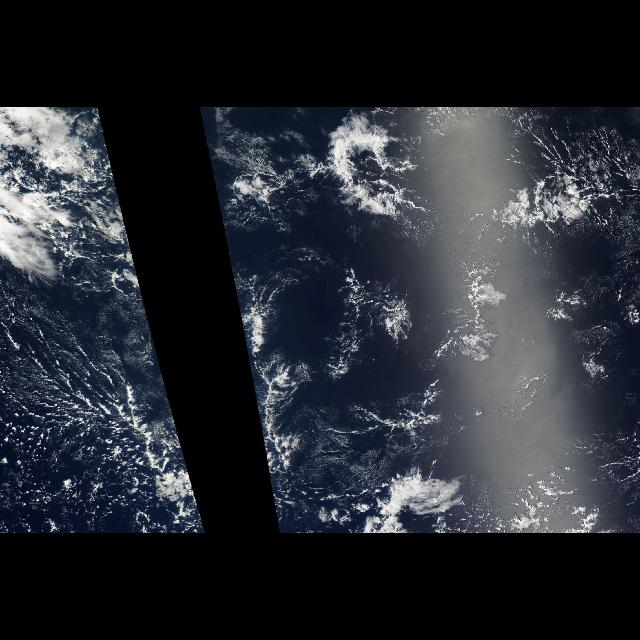Fish: (296, 113, 632, 455)
Gravel: (8, 326, 156, 508)
Sugar: (5, 281, 163, 523)
